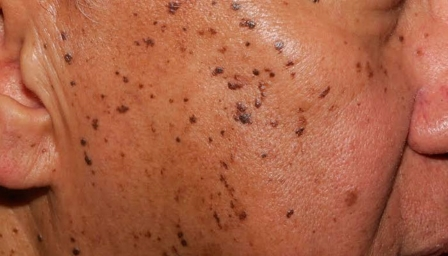seborrheic keratosis: (88, 27, 297, 228)
